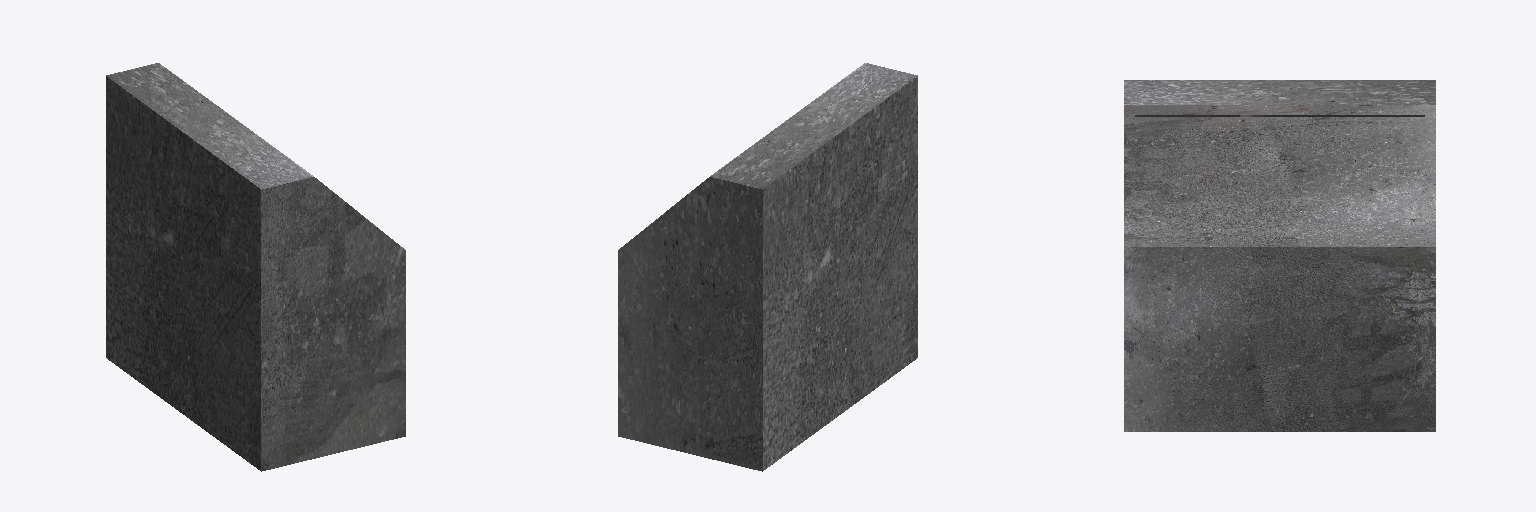
3 views of the same model, side by side, from view 1: azimuth 30°, elevation 25°; view 2: azimuth 150°, elevation 25°; view 3: azimuth 270°, elevation 25° (orthographic).
Parts seen in each view (by area): view 1: Cube.012; view 2: Cube.012; view 3: Cube.012.
Part boxes in pixels (x1,y1,x2,y2): Cube.012: (106,63,405,471); Cube.012: (618,63,917,471); Cube.012: (1124,80,1435,431).
Size of the model in its own units: 1.07 by 2 by 2.
1 materials, 1 textured.